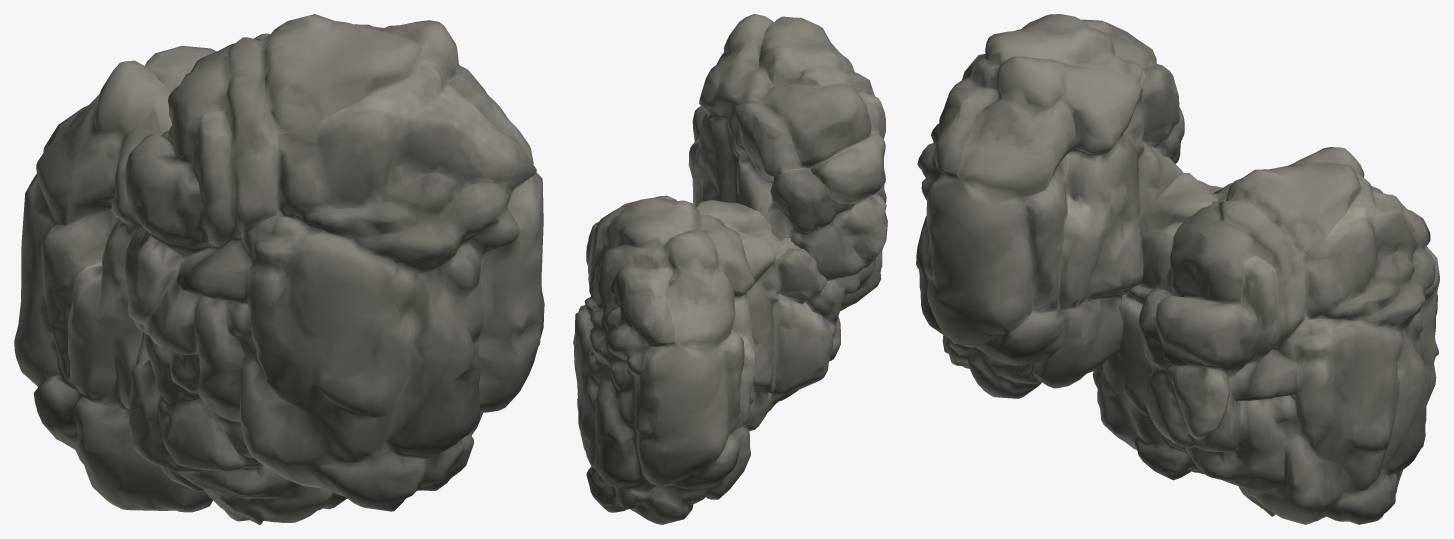
The model's file is cell_x-4_z-3_render.gltf.
3 renders of one model, left to right at view 1: azimuth 30°, elevation 25°; view 2: azimuth 150°, elevation 25°; view 3: azimuth 270°, elevation 25°, orthographic. The views are drawn at different scales.
Parts seen in each view (by area): view 1: cell_x-4_z-3; view 2: cell_x-4_z-3; view 3: cell_x-4_z-3.
Boxes of the visible parts, <box> form: cell_x-4_z-3: <box>14,14,544,524</box>; cell_x-4_z-3: <box>573,14,887,524</box>; cell_x-4_z-3: <box>916,14,1439,524</box>.
Size of the model in its own units: 18.12 by 28.99 by 29.16.
1 material, 1 textured.
